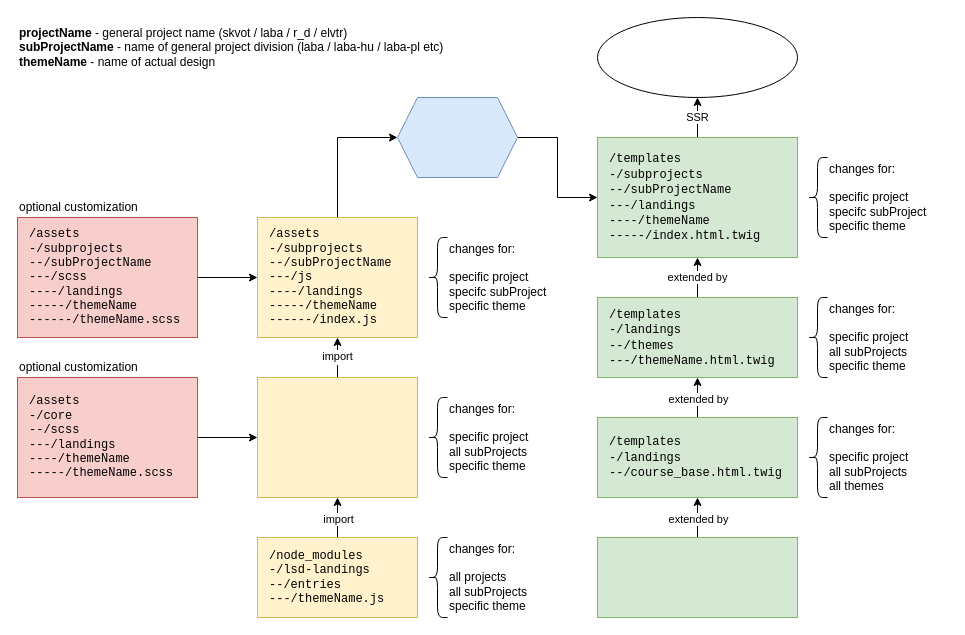
Some shapes in this 965 by 635 pixel diagram are drawn without their labels. The shapes that lost their labels are listed below. From the top down, each one's box as (x1, y1, x2, y2) in pixels, then its label:
(596, 16, 798, 98): Landing Page
(396, 96, 518, 178): WEBPACK addEntry
(256, 376, 418, 498): /assets -/core --/js ---/landings ----/themeName -----/index.js
(596, 536, 798, 618): /templates -/base.html.twig
